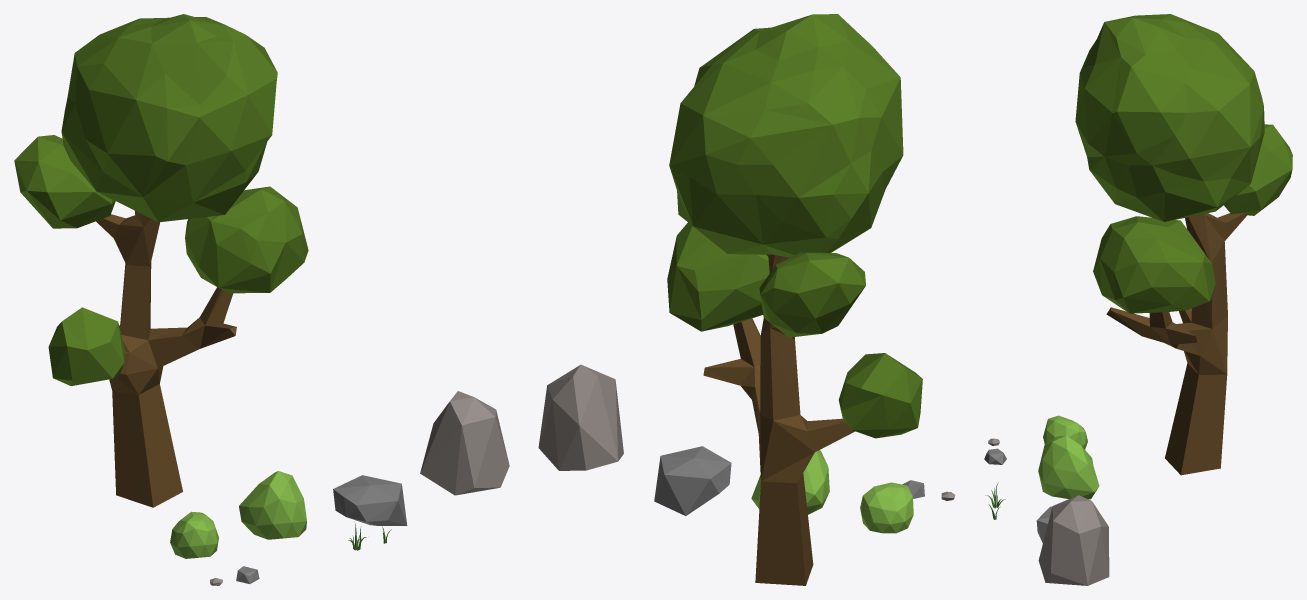
Rendered from NatureFreePack1.glb.
The picture shows the model from 3 angles, left to right: view 1: azimuth 30°, elevation 25°; view 2: azimuth 150°, elevation 25°; view 3: azimuth 270°, elevation 25°; orthographic projection. The views are drawn at different scales.
Parts seen in each view (by area): view 1: Tree1, Rock4, Bush1, Rock1, Bush2; view 2: Tree1, Rock4, Rock1, Bush2, Bush1; view 3: Tree1, Rock4, Bush1, Bush2.
Part boxes in pixels (left/top/right/bottom): Tree1: left=14, top=14, right=308, bottom=507; Rock4: left=420, top=391, right=509, bottom=495; Bush1: left=239, top=471, right=306, bottom=539; Rock1: left=333, top=475, right=407, bottom=525; Bush2: left=170, top=511, right=218, bottom=558; Tree1: left=667, top=14, right=922, bottom=585; Rock4: left=538, top=364, right=623, bottom=470; Rock1: left=654, top=446, right=731, bottom=515; Bush2: left=860, top=482, right=913, bottom=533; Bush1: left=751, top=450, right=829, bottom=514; Tree1: left=1075, top=14, right=1292, bottom=475; Rock4: left=1038, top=495, right=1109, bottom=585; Bush1: left=1038, top=435, right=1099, bottom=499; Bush2: left=1043, top=415, right=1087, bottom=449.
Size of the model in its own units: 19.86 by 24.54 by 14.73.
